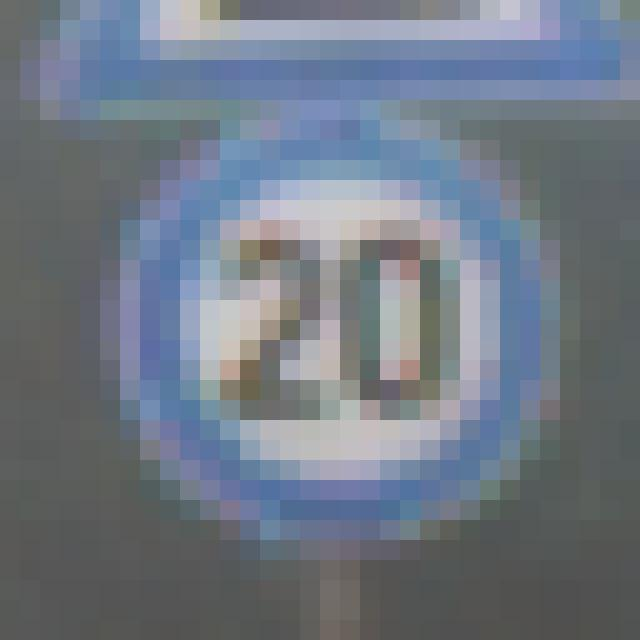SPEED LIMIT 20: (93, 117, 586, 548)
